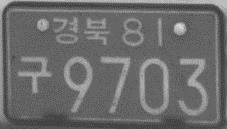0: (137, 57, 170, 116)
1: (153, 15, 167, 48)
3: (176, 56, 209, 117)
7: (99, 54, 133, 115)
8: (121, 16, 144, 47)
9: (61, 54, 94, 114)
경북_O: (51, 15, 111, 47)
구: (17, 53, 52, 96)
